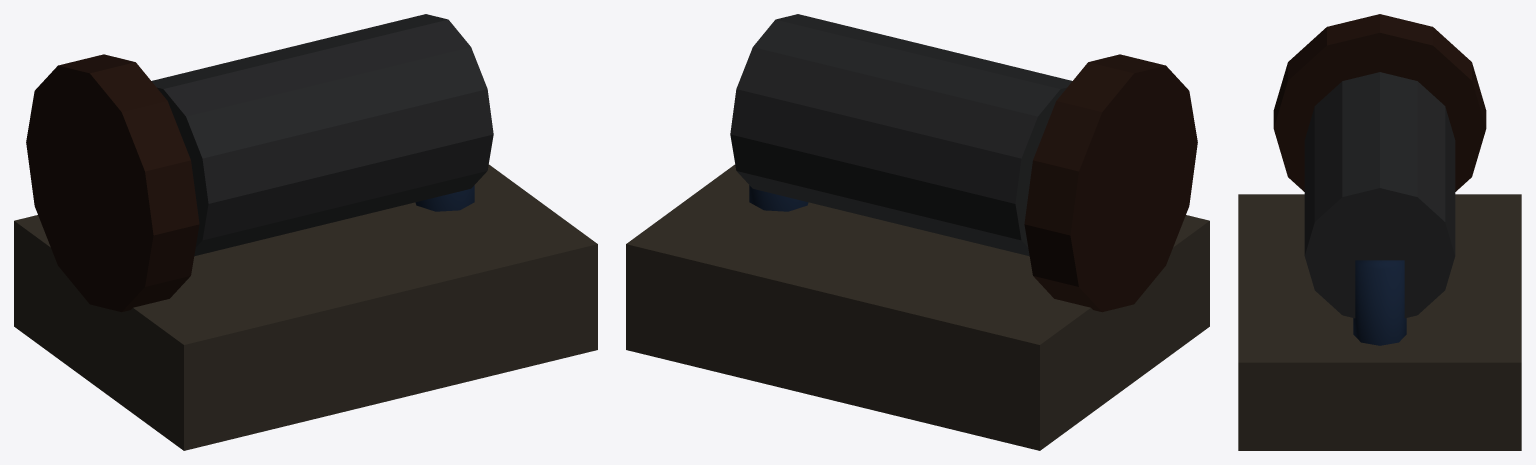
File: PUMP.dae
The picture shows the model from 3 angles, left to right: view 1: azimuth 30°, elevation 25°; view 2: azimuth 150°, elevation 25°; view 3: azimuth 270°, elevation 25°; orthographic projection. The views are drawn at different scales.
Parts seen in each view (by area): view 1: PUMP; view 2: PUMP; view 3: PUMP.
Boxes of the visible parts, x1,y1,x2,y2 form: PUMP: (14, 14, 597, 450); PUMP: (626, 14, 1209, 450); PUMP: (1238, 14, 1521, 450).
Bounding box in the file's own units: 0.92 × 0.64 × 0.67.
